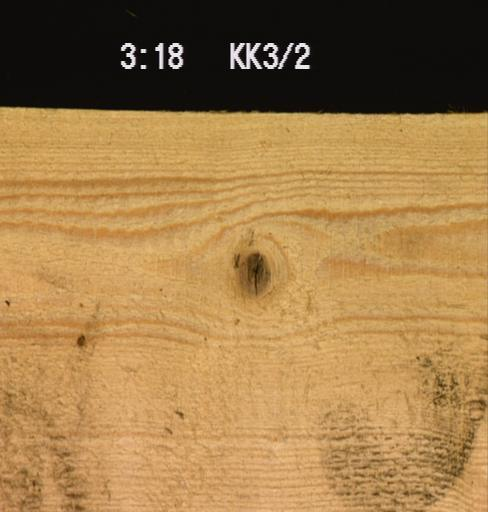small_knot: (70, 325, 90, 351)
sound_knot: (235, 249, 272, 297)
